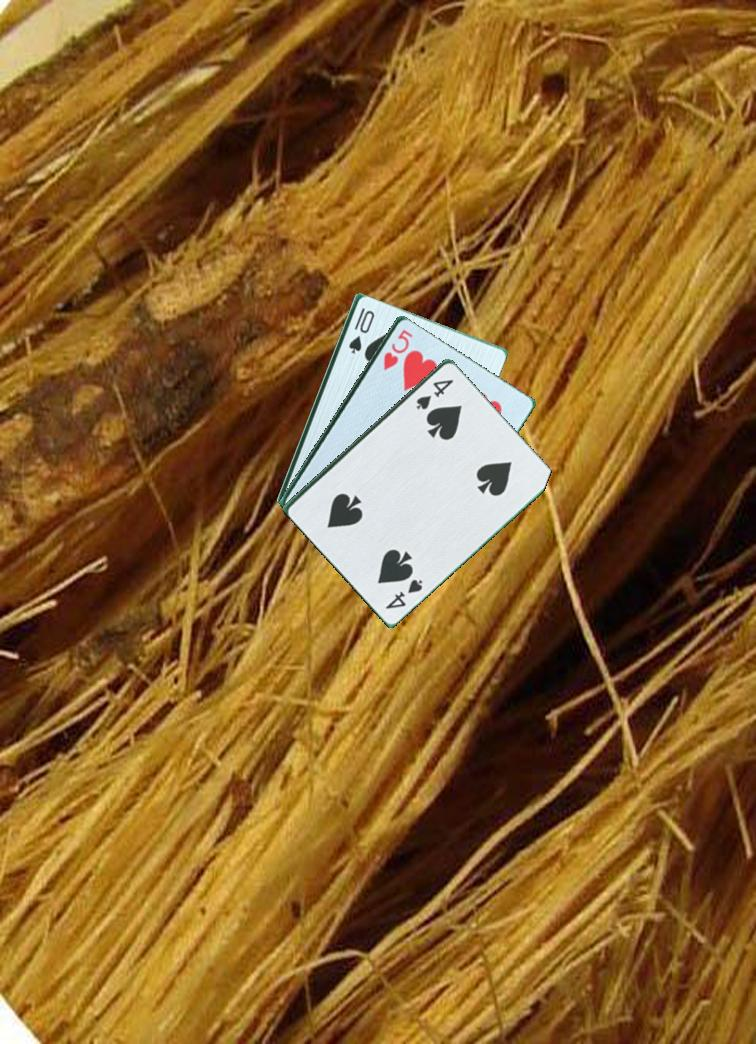4s: (382, 569, 425, 612), (412, 375, 456, 412)
5h: (379, 325, 416, 373)
ts: (345, 304, 376, 357)
